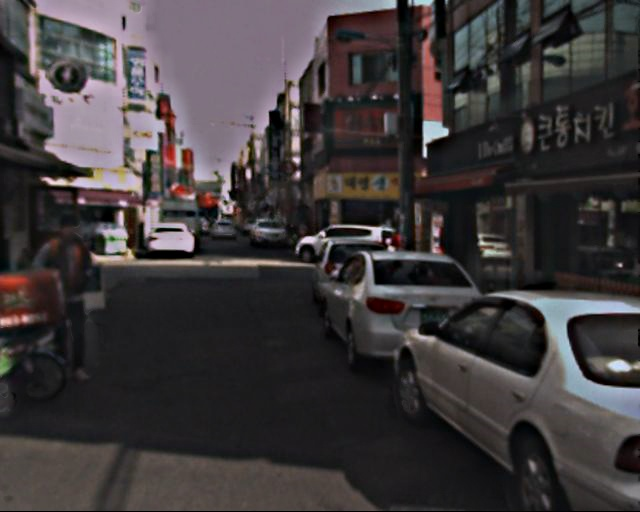person: (33, 210, 111, 384)
